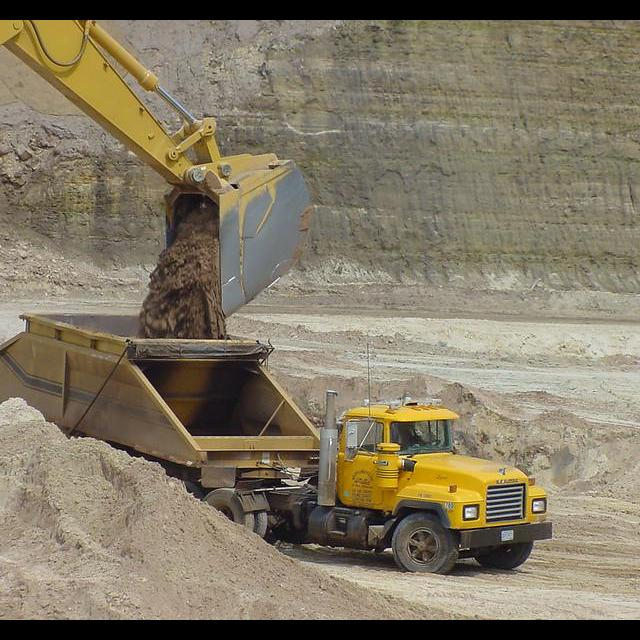Excavator: (0, 21, 316, 321)
Person: (395, 422, 428, 446)
Safety Vest: (396, 428, 415, 445)
dump truck: (0, 309, 551, 578)
